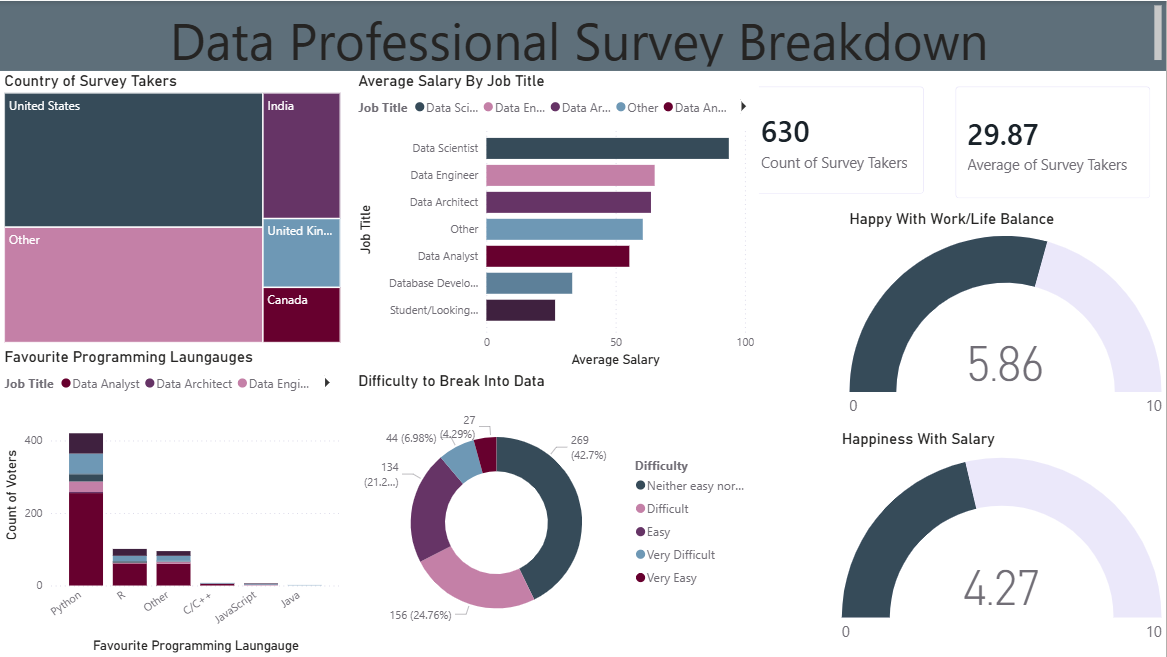

Layout of this report page (visuals, bound fields, positions):
{"tool":"powerbi","page":{"name":"Page 1","canvas":[1280,720],"ordinal":0},"visuals":[{"type":"textbox","box":[0,0,1280.3,76.8],"z":0},{"type":"cardVisual","fields":{"Data":["CountNonNull(Data Professional Survey.Unique ID)"]},"box":[805.5,76.8,226.4,152.3],"z":1000},{"type":"cardVisual","fields":{"Data":["Avg(Data Professional Survey.Q10 - Current Age)"]},"box":[1031.9,76.8,248.4,157.8],"z":2000},{"type":"barChart","title":"Average Salary By Job Title","fields":{"Category":["Data Professional Survey.Q1 - Which Title Best Fits your Current Role?.1"],"Y":["Avg(Data Professional Survey.Avg Salary)"],"Series":["Data Professional Survey.Q1 - Which Title Best Fits your Current Role?.1"]},"box":[388.3,76.8,444.6,329.3],"z":3000},{"type":"columnChart","title":"Favourite Programming Laungauges","fields":{"Category":["Data Professional Survey.Q5 - Favorite Programming Language.1"],"Y":["CountNonNull(Data Professional Survey.Unique ID)"],"Series":["Data Professional Survey.Q1 - Which Title Best Fits your Current Role?.1"]},"box":[0,380.1,378.7,340.3],"z":4000},{"type":"treemap","title":"Country of Survey Takers ","fields":{"Group":["Data Professional Survey.Q11 - Which Country do you live in?.1"],"Values":["CountNonNull(Data Professional Survey.Q11 - Which Country do you live in?.1)"]},"box":[0,76.8,378.7,303.3],"z":5000},{"type":"gauge","title":"Happy With Work/Life Balance","fields":{"Y":["Avg(Data Professional Survey.Q6 - How Happy are you in your Current Position with the following? (Coworkers))"],"MinValue":["Min(Data Professional Survey.Q6 - How Happy are you in your Current Position with the following? (Coworkers))"],"MaxValue":["Max(Data Professional Survey.Q6 - How Happy are you in your Current Position with the following? (Coworkers))1"]},"box":[927.6,229.2,352.7,241.5],"z":6000},{"type":"gauge","title":"Happiness With Salary","fields":{"Y":["Avg(Data Professional Survey.Q6 - How Happy are you in your Current Position with the following? (Salary))"],"MinValue":["Min(Data Professional Survey.Q6 - How Happy are you in your Current Position with the following? (Salary))"],"MaxValue":["Max(Data Professional Survey.Q6 - How Happy are you in your Current Position with the following? (Salary))1"]},"box":[919.4,470.7,360.9,249.7],"z":7000},{"type":"donutChart","title":"Difficulty to Break Into Data","fields":{"Category":["Data Professional Survey.Q7 - How difficult was it for you to break into Data?"],"Y":["CountNonNull(Data Professional Survey.Q7 - How difficult was it for you to break into Data?)"]},"box":[388.3,406.2,444.6,314.2],"z":8000}]}

Visuals, with their boxes in screenshot pixels (x1, y1, x2, y2), scaled from the page's 1280x720 canvas onto the 1167x657 screenshot:
textbox: <box>0,0,1166,70</box>
cardVisual - CountNonNull(Data Professional Survey.Unique ID): <box>734,70,941,209</box>
cardVisual - Avg(Data Professional Survey.Q10 - Current Age): <box>941,70,1166,214</box>
"Average Salary By Job Title" barChart: <box>354,70,759,371</box>
"Favourite Programming Laungauges" columnChart: <box>0,347,345,656</box>
"Country of Survey Takers " treemap: <box>0,70,345,347</box>
"Happy With Work/Life Balance" gauge: <box>846,209,1166,430</box>
"Happiness With Salary" gauge: <box>838,430,1166,656</box>
"Difficulty to Break Into Data" donutChart: <box>354,371,759,656</box>
